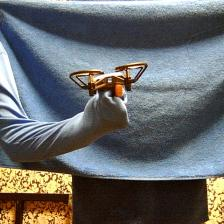drone: (67, 61, 150, 95)
